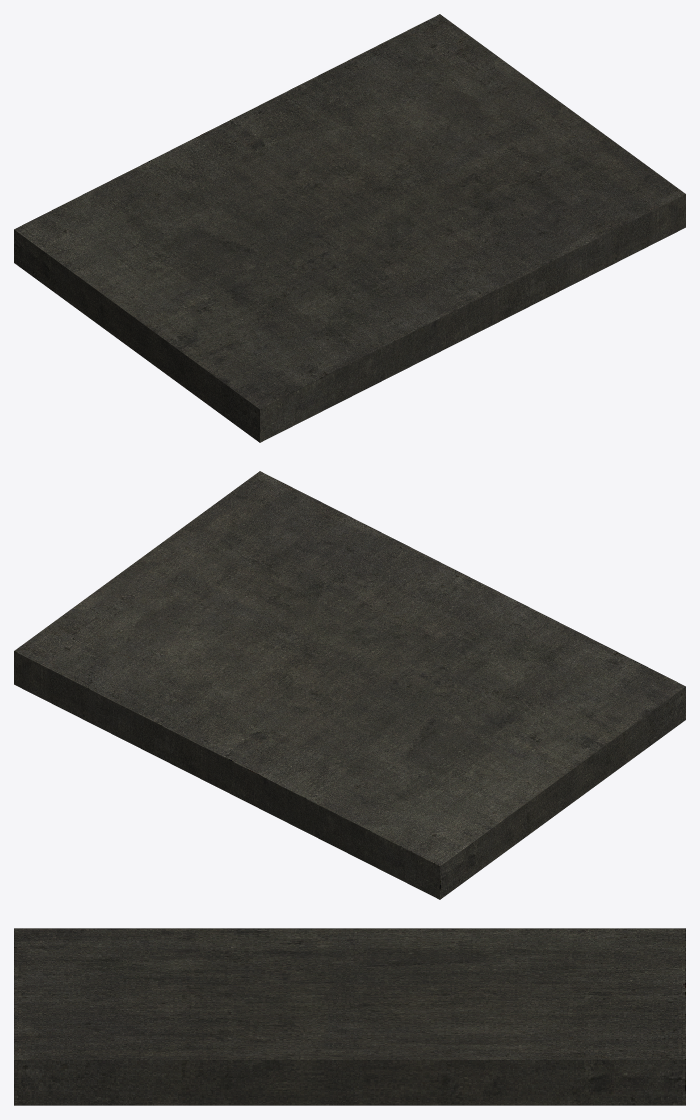
The model's file is floor_ceiling_hs_2.glb.
3 renders of one model, top to bottom at view 1: azimuth 30°, elevation 25°; view 2: azimuth 150°, elevation 25°; view 3: azimuth 270°, elevation 25°, orthographic. The views are drawn at different scales.
Visible parts, largest first — view 1: floor_ceiling_hs_2; view 2: floor_ceiling_hs_2; view 3: floor_ceiling_hs_2.
Part boxes in pixels (x1,y1,x2,y2): floor_ceiling_hs_2: (14,14,685,442); floor_ceiling_hs_2: (14,471,685,899); floor_ceiling_hs_2: (14,928,685,1105).
Bounding box in the file's own units: 4 × 1.3 × 4.
1 material, 1 textured.
